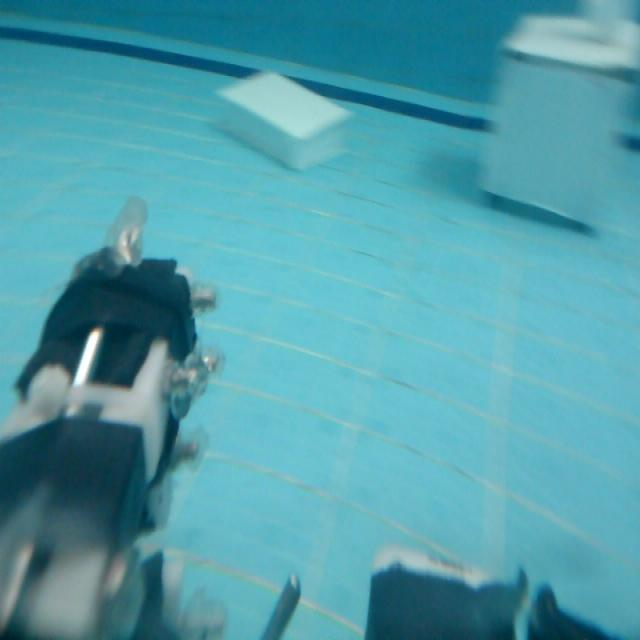Cube: (486, 12, 640, 246)
Cuboid: (213, 67, 354, 172)
